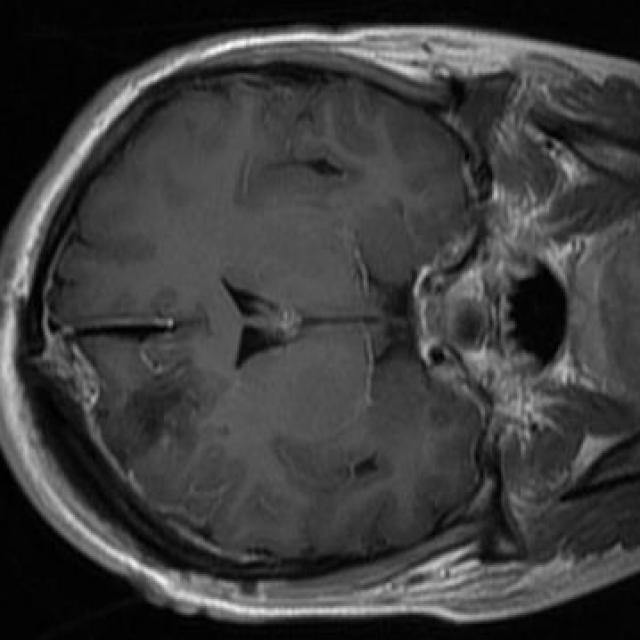glioma: (98, 341, 201, 467)
